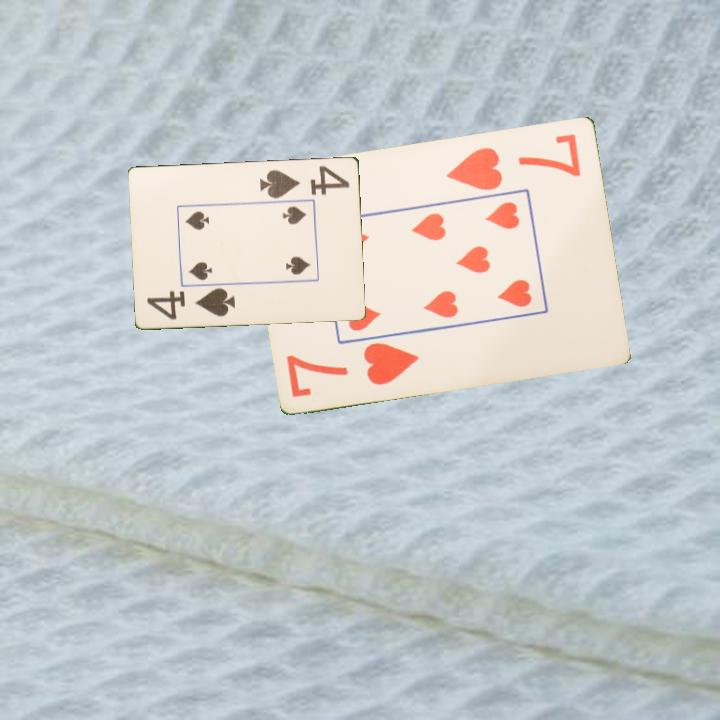4s: (256, 162, 352, 201), (144, 284, 238, 322)
7h: (443, 130, 584, 193), (283, 338, 422, 400)
